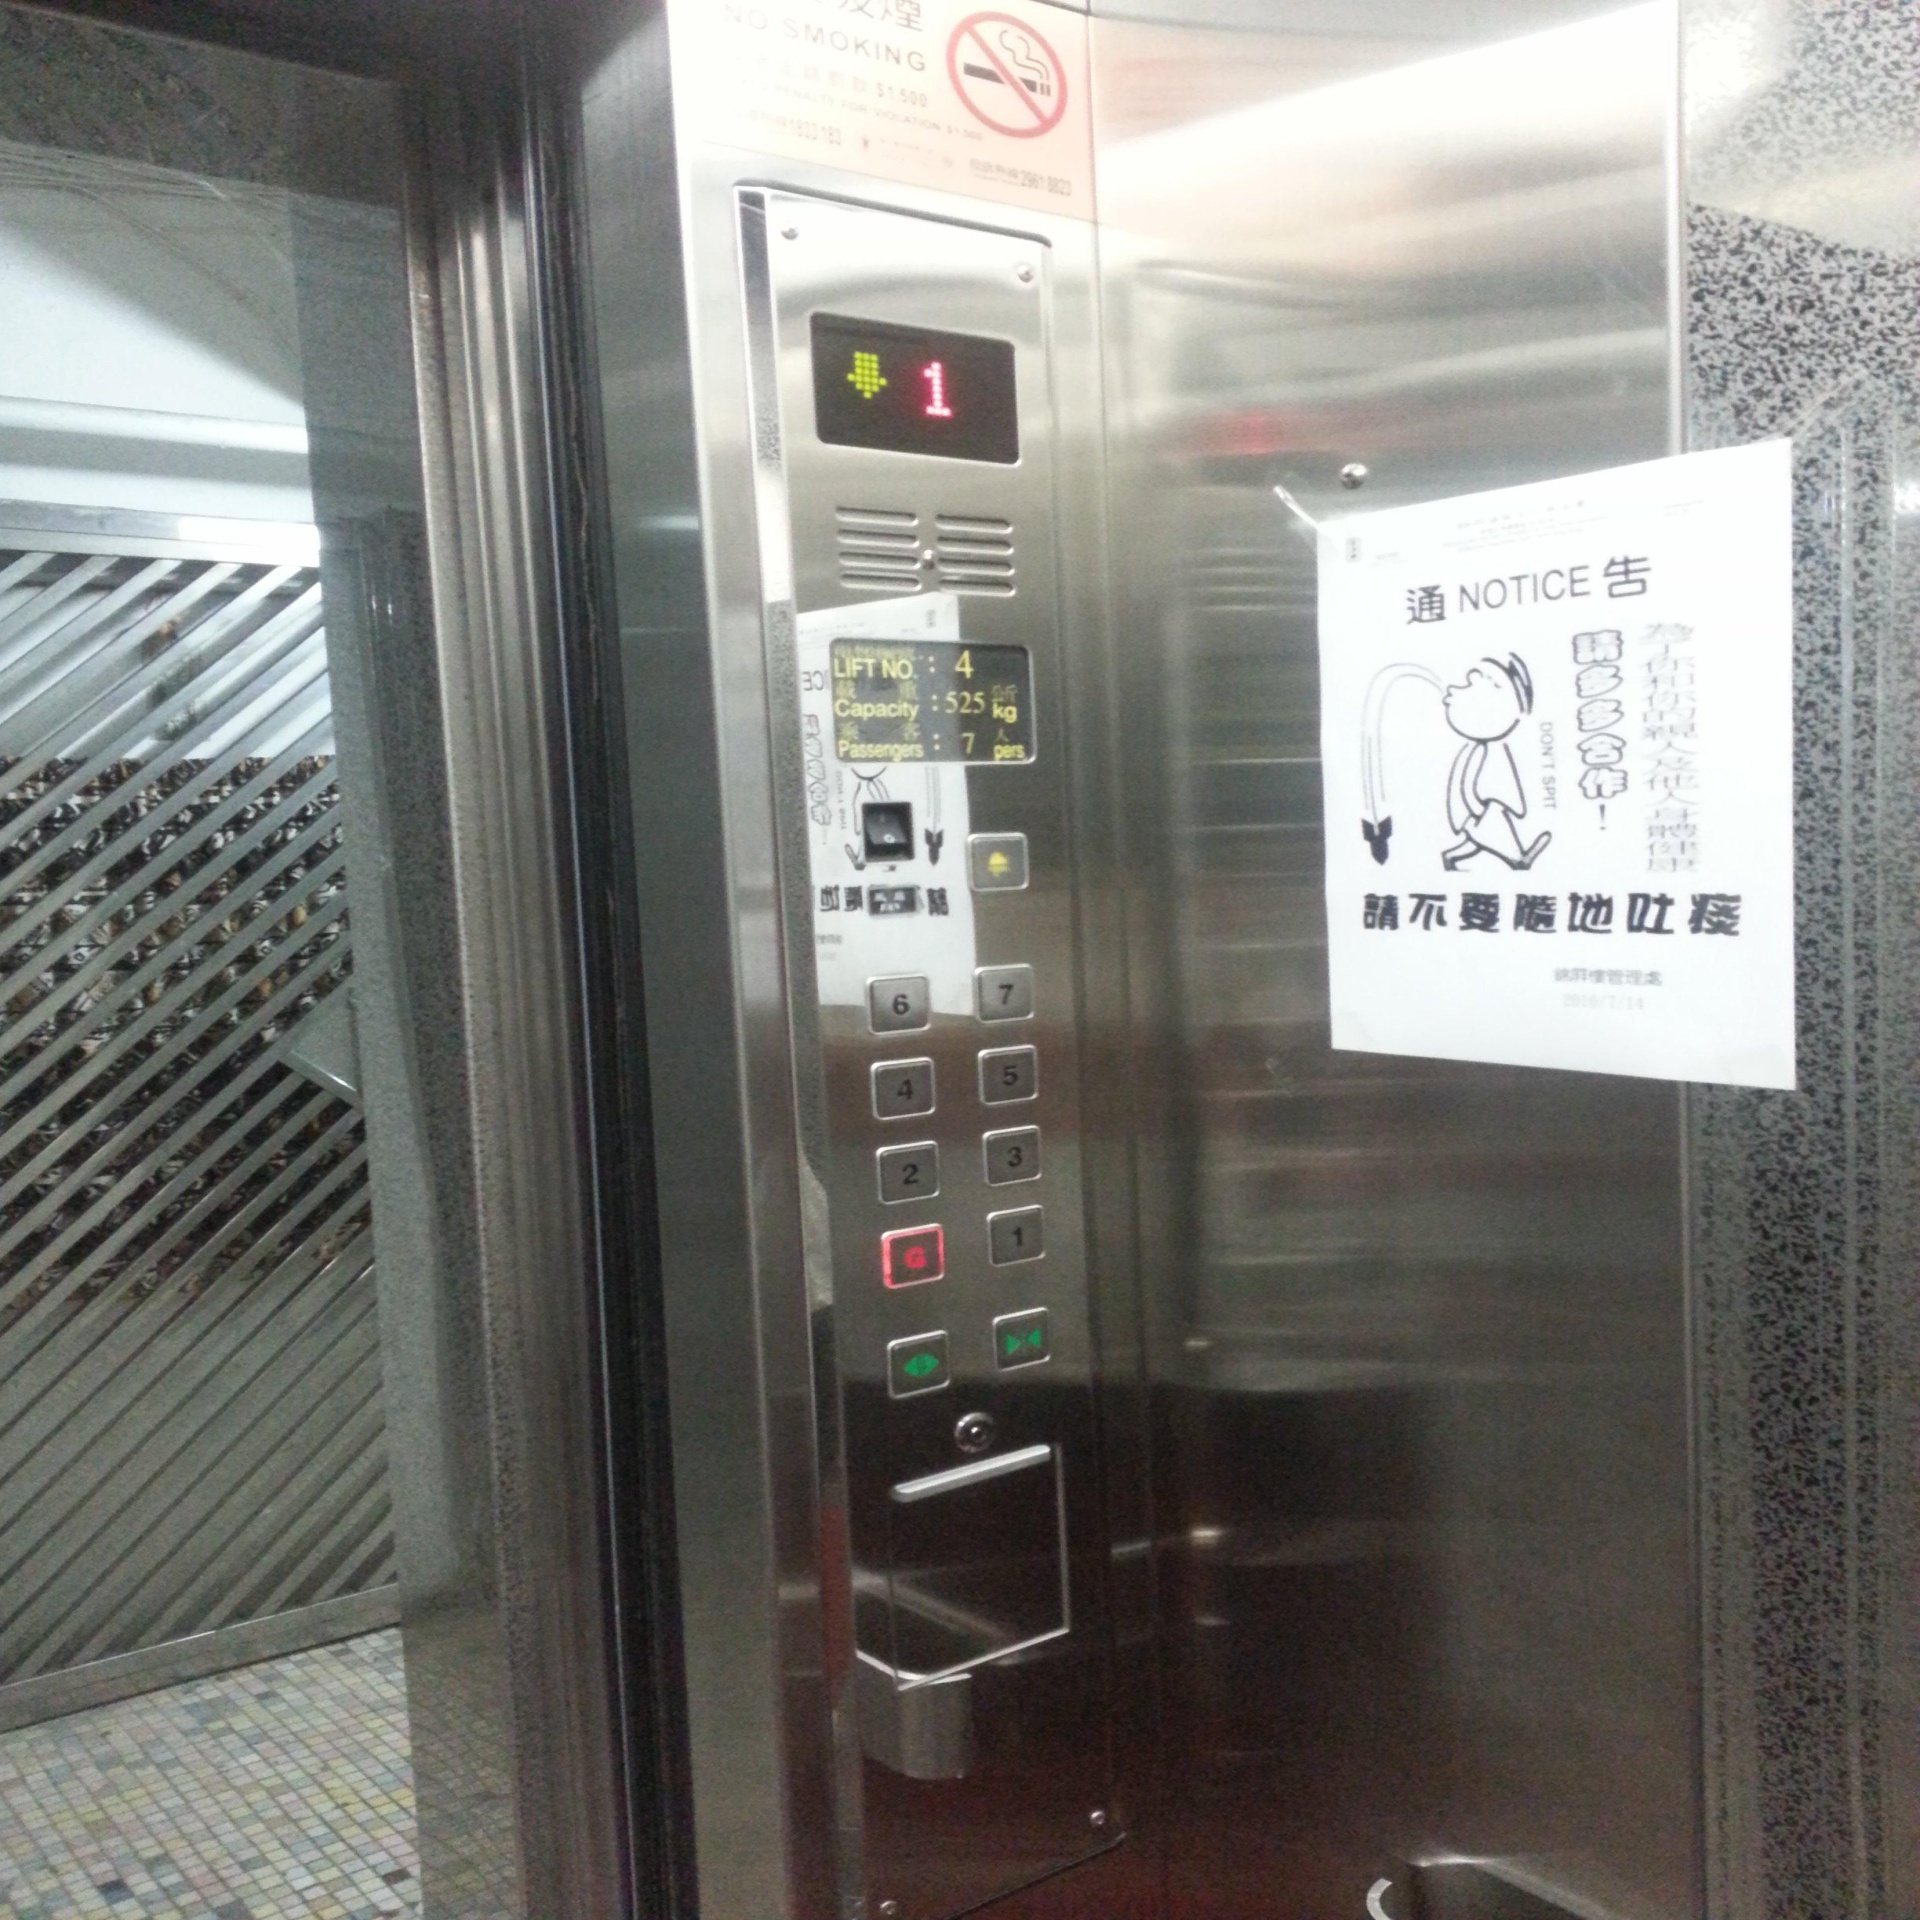1: (983, 1199, 1050, 1271)
2: (870, 1136, 944, 1210)
3: (978, 1122, 1046, 1192)
4: (867, 1053, 941, 1125)
5: (974, 1041, 1043, 1111)
6: (862, 971, 935, 1041)
7: (969, 958, 1037, 1029)
G: (877, 1218, 949, 1292)
alarm: (962, 830, 1034, 897)
close: (988, 1303, 1055, 1377)
keyhole: (949, 1407, 1000, 1458)
led: (804, 302, 1027, 471)
open: (883, 1326, 955, 1405)
